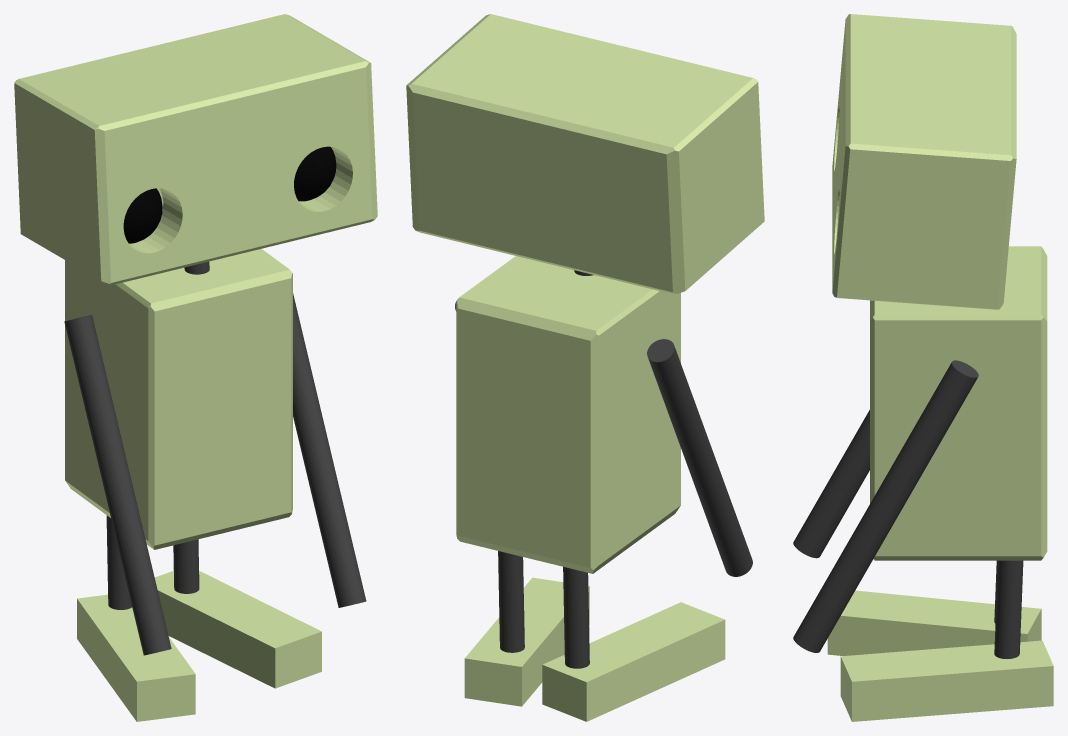
The model's file is Robot Rouen.fbx.
3 renders of one model, left to right at view 1: azimuth 30°, elevation 25°; view 2: azimuth 150°, elevation 25°; view 3: azimuth 270°, elevation 25°, orthographic.
Parts seen in each view (by area): view 1: Cube, Cube.001, Cube.003, Cylinder.002, Cube.002, Cylinder.001, Sphere.001, Sphere, Cylinder.003, Cylinder.004; view 2: Cube, Cube.001, Cube.002, Cube.003, Cylinder.002, Cylinder.003, Cylinder.004; view 3: Cube, Cube.001, Cube.003, Cylinder.001, Cube.002, Cylinder.002, Cylinder.004.
Boxes of the visible parts, x1,y1,x2,y2 form: Cube: [14, 14, 377, 284]; Cube.001: [65, 249, 292, 549]; Cube.003: [155, 570, 321, 688]; Cylinder.002: [64, 315, 171, 655]; Cube.002: [77, 594, 195, 721]; Cylinder.001: [293, 293, 366, 607]; Sphere.001: [294, 146, 336, 201]; Sphere: [123, 188, 162, 243]; Cylinder.003: [106, 515, 131, 609]; Cylinder.004: [173, 539, 199, 593]; Cube: [406, 14, 764, 294]; Cube.001: [456, 256, 680, 573]; Cube.002: [542, 602, 725, 721]; Cube.003: [464, 577, 589, 706]; Cylinder.002: [647, 339, 752, 576]; Cylinder.003: [563, 567, 589, 668]; Cylinder.004: [498, 551, 524, 652]; Cube: [832, 14, 1016, 309]; Cube.001: [870, 246, 1047, 560]; Cube.003: [840, 640, 1053, 721]; Cylinder.001: [793, 360, 978, 652]; Cube.002: [827, 590, 1041, 655]; Cylinder.002: [793, 410, 869, 558]; Cylinder.004: [994, 560, 1023, 658].
Size of the model in its own units: 371 by 770 by 303.
